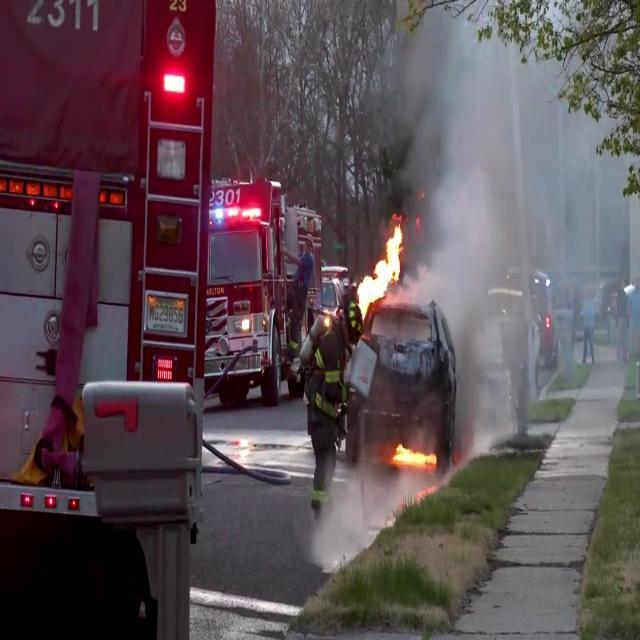Fire: (356, 218, 404, 320), (392, 428, 436, 474)
Smoke: (398, 9, 634, 418), (312, 447, 394, 583)
